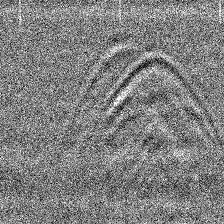Utility: (76, 38, 222, 150)
